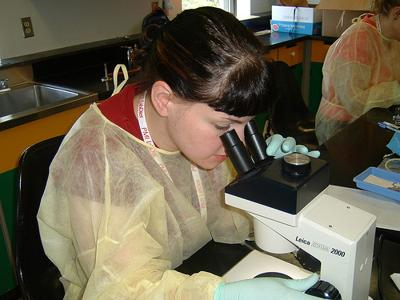person: (39, 7, 326, 300)
